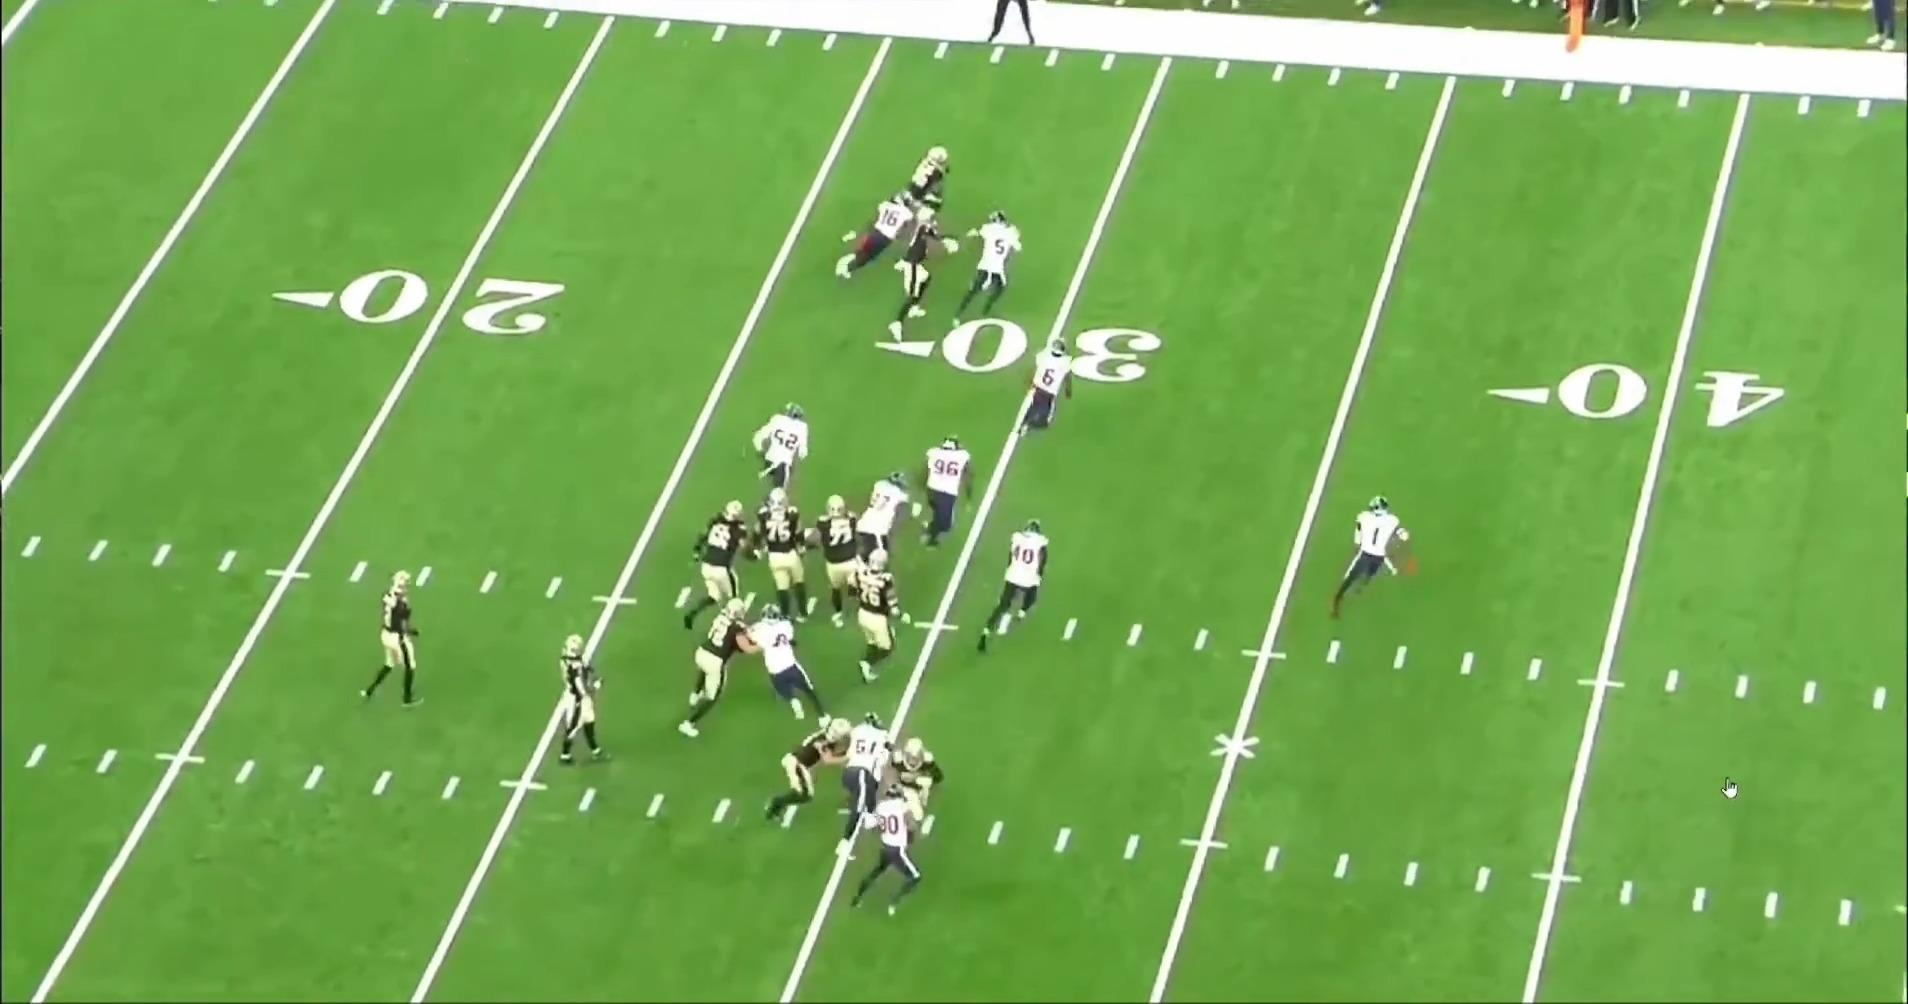player: (675, 595, 758, 744), (850, 778, 935, 913), (1320, 497, 1410, 623), (825, 706, 898, 861), (365, 563, 436, 716), (750, 605, 842, 723), (687, 495, 766, 631), (976, 518, 1050, 659), (759, 711, 845, 829), (882, 193, 952, 337), (753, 489, 820, 620), (838, 187, 929, 283), (951, 207, 1021, 330), (850, 550, 912, 681), (555, 631, 612, 773), (745, 402, 812, 518), (806, 492, 861, 622), (915, 431, 972, 548), (1018, 337, 1080, 442), (851, 469, 912, 564), (912, 145, 961, 255), (889, 733, 947, 824)
ref: (974, 0, 1039, 49)
